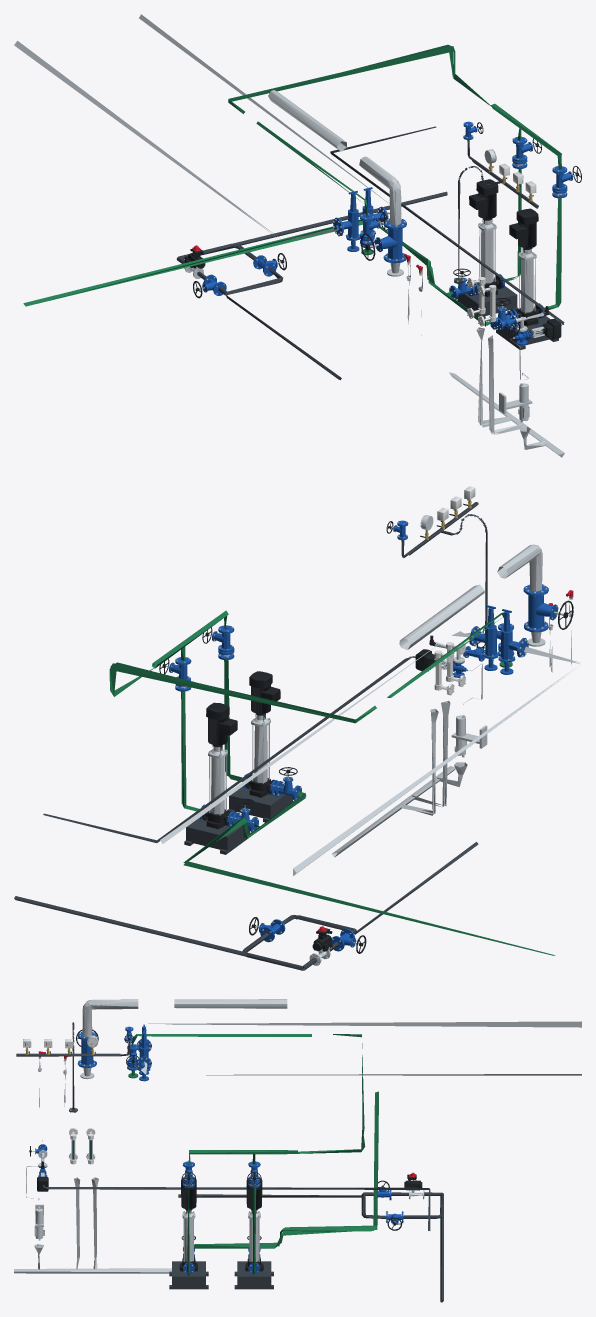
The picture shows the model from 3 angles, top to bottom: view 1: azimuth 30°, elevation 25°; view 2: azimuth 150°, elevation 25°; view 3: azimuth 270°, elevation 25°; orthographic projection. The views are drawn at different scales.
Parts seen in each view (by area): view 1: suction_common, pump_1, pump_2, local_open_drains, to_direct, safety_vent_1, pump_branch_1, pump_branch_2, steam_manual, steam_delivery, steam_rise, safety_vent_2 (+5 smaller); view 2: pump_2, pump_1, local_open_drains, pump_branch_2, suction_common, to_direct, pump_branch_1, safety_vent_1, steam_manual, steam_delivery, bottom_discharge, safety_vent_2 (+5 smaller); view 3: suction_common, safety_vent_1, local_open_drains, pump_branch_2, pump_branch_1, steam_delivery, tds_common, pump_1, pump_2, steam_rise, safety_vent_2, pressure_header (+5 smaller).
Boxes of the visible parts, left/top/right/bottom form: suction_common: left=23, top=219, right=485, bottom=326; pump_1: left=509, top=208, right=541, bottom=326; pump_2: left=469, top=179, right=502, bottom=296; local_open_drains: left=449, top=327, right=564, bottom=457; to_direct: left=228, top=44, right=491, bottom=113; safety_vent_1: left=14, top=41, right=339, bottom=239; pump_branch_1: left=486, top=154, right=561, bottom=349; pump_branch_2: left=445, top=128, right=521, bottom=318; steam_manual: left=360, top=218, right=406, bottom=263; steam_delivery: left=268, top=90, right=346, bottom=151; steam_rise: left=359, top=156, right=401, bottom=225; safety_vent_2: left=139, top=14, right=401, bottom=214; pump_2: left=202, top=702, right=237, bottom=829; pump_1: left=245, top=671, right=280, bottom=797; local_open_drains: left=332, top=700, right=467, bottom=857; pump_branch_2: left=181, top=647, right=260, bottom=854; suction_common: left=183, top=793, right=555, bottom=955; to_direct: left=109, top=662, right=376, bottom=723; pump_branch_1: left=224, top=616, right=306, bottom=822; safety_vent_1: left=293, top=646, right=580, bottom=875; steam_manual: left=523, top=584, right=573, bottom=632; steam_delivery: left=399, top=584, right=484, bottom=649; bottom_discharge: left=14, top=896, right=304, bottom=970; safety_vent_2: left=160, top=631, right=470, bottom=843; suction_common: left=194, top=1091, right=378, bottom=1248; safety_vent_1: left=146, top=1021, right=581, bottom=1027; local_open_drains: left=14, top=1177, right=171, bottom=1273; pump_branch_2: left=234, top=1154, right=273, bottom=1289; pump_branch_1: left=169, top=1153, right=208, bottom=1289; steam_delivery: left=174, top=999, right=287, bottom=1008; tds_common: left=43, top=1185, right=428, bottom=1189; pump_1: left=179, top=1178, right=197, bottom=1271; pump_2: left=245, top=1178, right=263, bottom=1271; steam_rise: left=82, top=999, right=138, bottom=1036; safety_vent_2: left=141, top=1061, right=581, bottom=1075; pressure_header: left=16, top=1022, right=130, bottom=1112.
Bounding box in the file's own units: 5 × 2.99 × 6.5.
